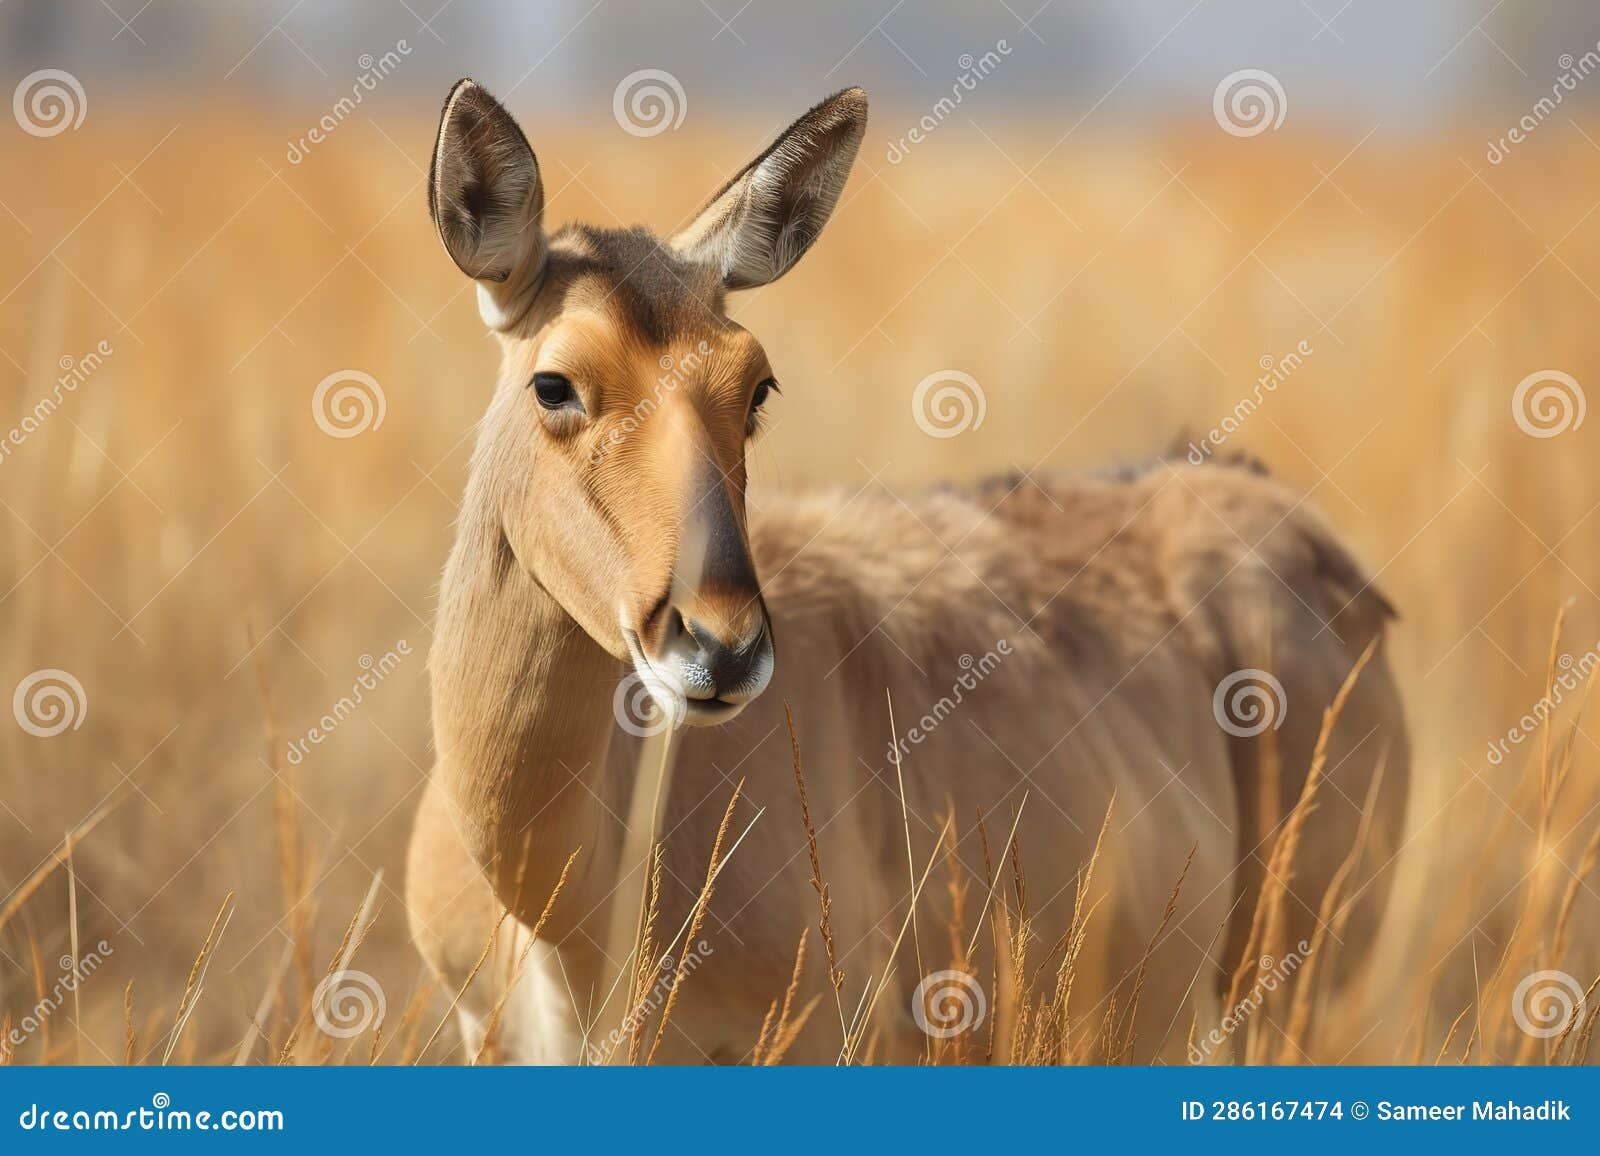saiga: (359, 38, 1434, 1101)
